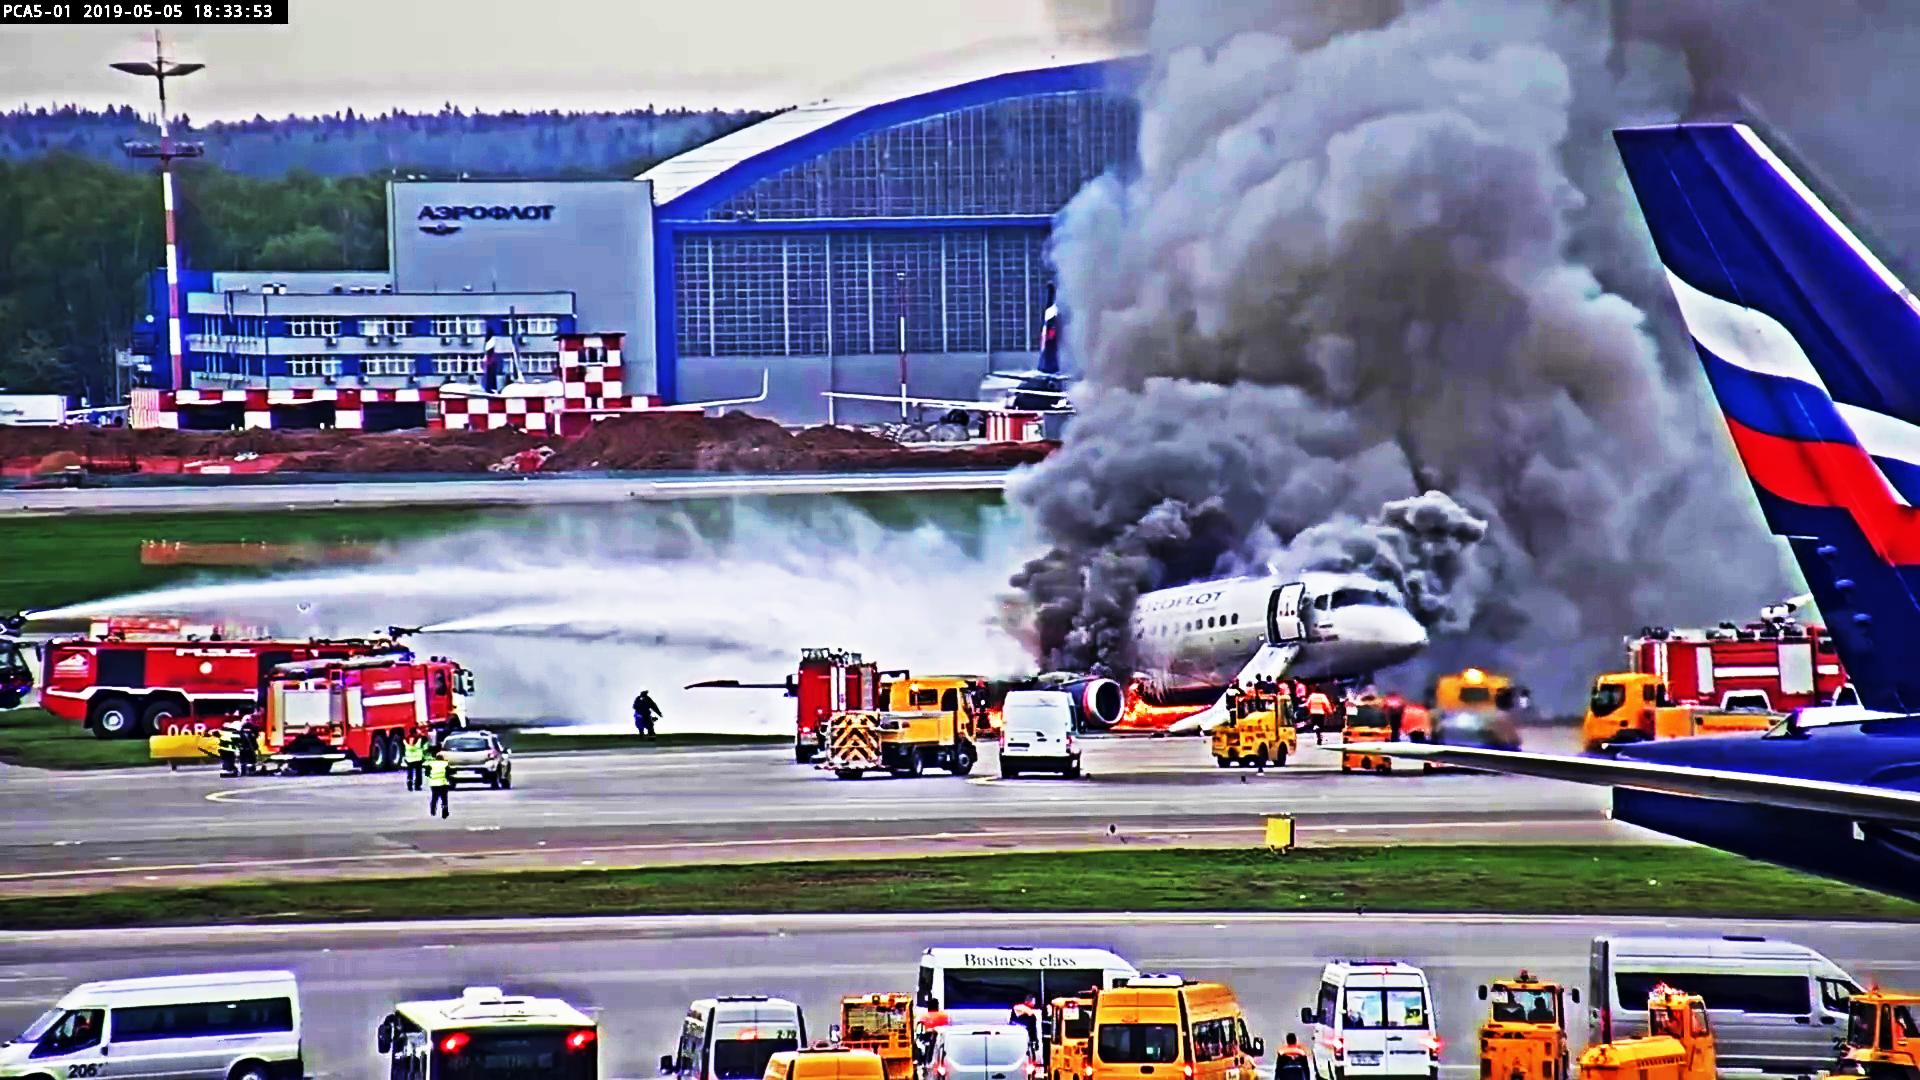smoke: (1138, 13, 1565, 541)
